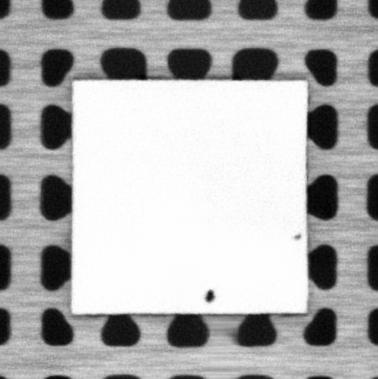DIE_INK: (202, 287, 217, 304), (291, 231, 303, 241)
